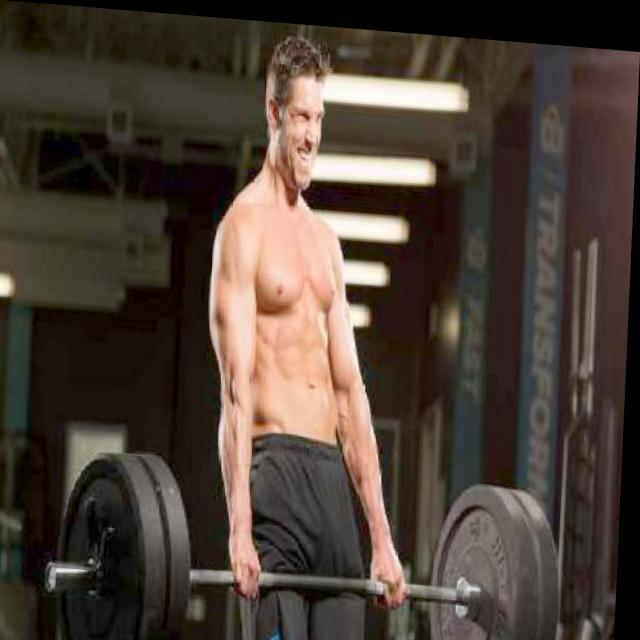barbell: (48, 441, 161, 640)
